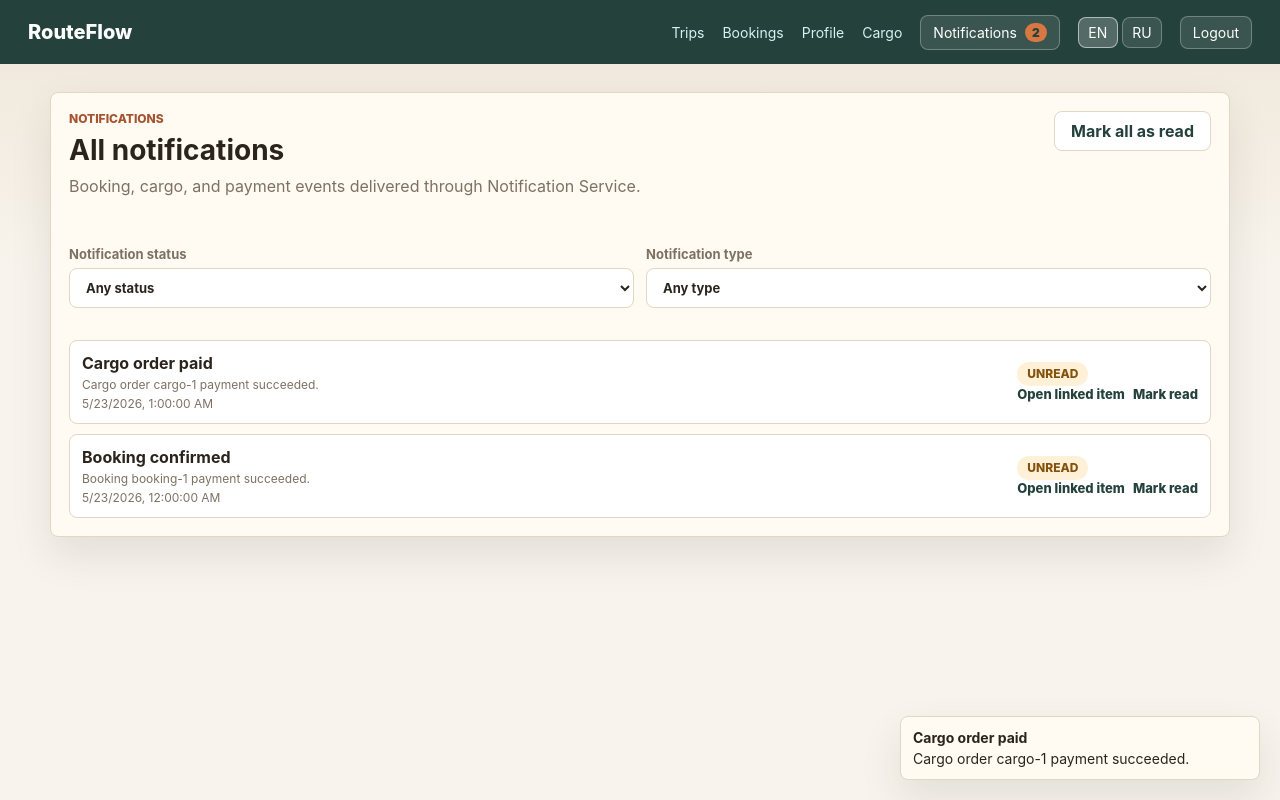
Scenario: App routes › opens all notifications screen and marks all notifications as read
Expected: the heading "All notifications" is shown, [69, 133, 284, 167]
Expected: the dropdown labelled "Notification status" is shown, [69, 268, 634, 308]
Click the button "Mark all as read" at coordinates (1132, 131), box [1054, 111, 1211, 151]
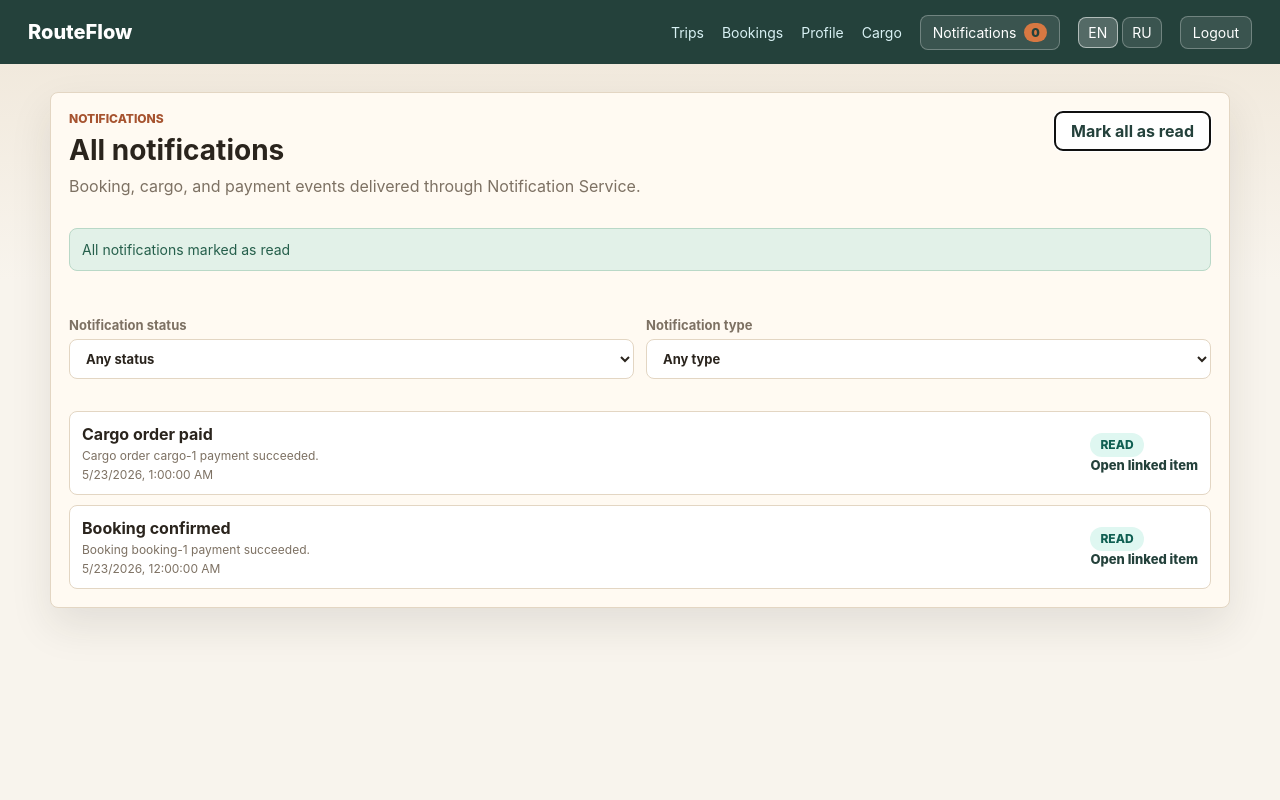
Expected: the text "All notifications marked as read" is shown, [69, 228, 1211, 271]
Expected: the button with aria-label "Notifications 0 unread" is shown, [920, 14, 1060, 50]
